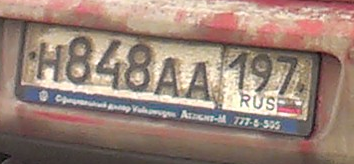character: (123, 40, 154, 95), (94, 37, 123, 94), (65, 35, 95, 88), (185, 57, 215, 105), (33, 40, 65, 83), (153, 57, 184, 101), (274, 50, 300, 98), (249, 50, 275, 95), (228, 50, 248, 92)
